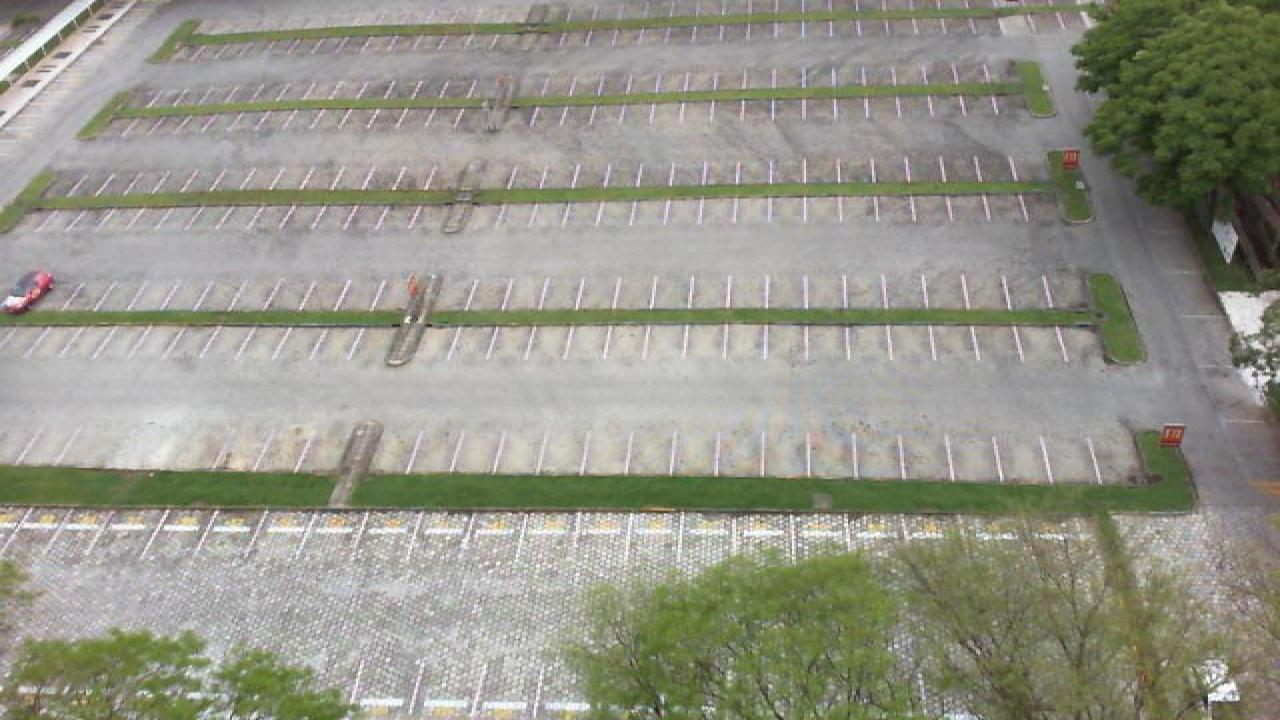Car: (0, 271, 54, 315)
